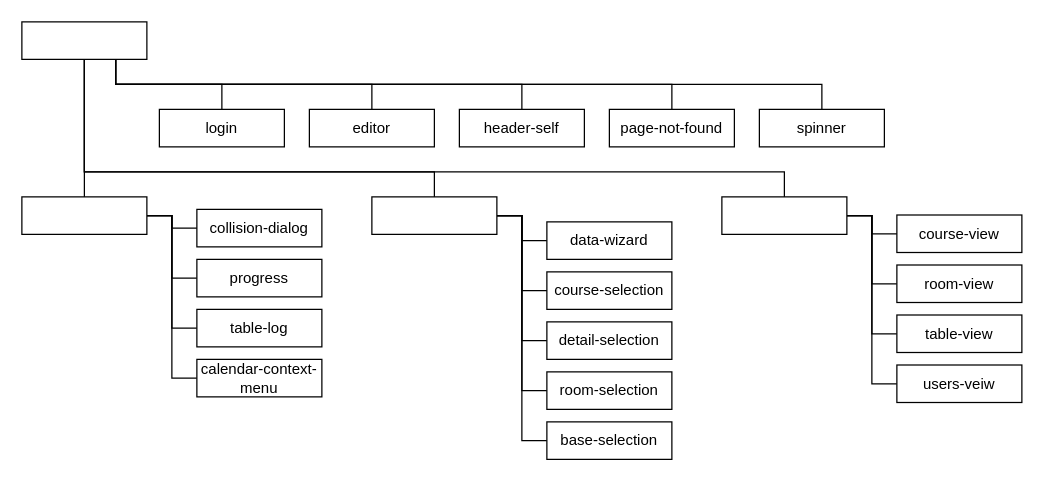
Image size: 1044x481. Some labels were removed from this diagram. Each missing label, with the centre of its shape:
components: [84,40]
home: [84,215]
table-views: [784,215]
wizard: [434,215]
